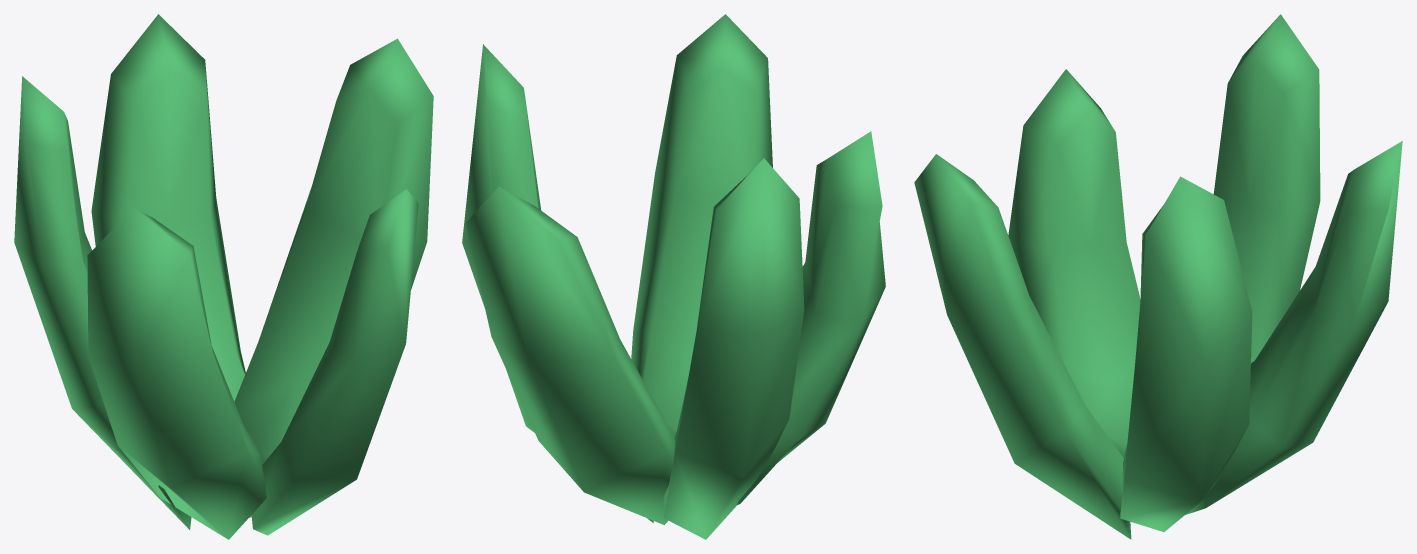
The model's file is Plant_A_02_LOD2.gltf.
3 renders of one model, left to right at view 1: azimuth 30°, elevation 25°; view 2: azimuth 150°, elevation 25°; view 3: azimuth 270°, elevation 25°, orthographic. The views are drawn at different scales.
Parts seen in each view (by area): view 1: Plant_A_02_LOD2_Cube.710; view 2: Plant_A_02_LOD2_Cube.710; view 3: Plant_A_02_LOD2_Cube.710.
Part boxes in pixels (bbox=[...]): Plant_A_02_LOD2_Cube.710: bbox=[14, 14, 433, 539]; Plant_A_02_LOD2_Cube.710: bbox=[462, 14, 885, 539]; Plant_A_02_LOD2_Cube.710: bbox=[914, 14, 1402, 539].
Size of the model in its own units: 4 by 4.62 by 4.61.
1 material, 1 textured.
